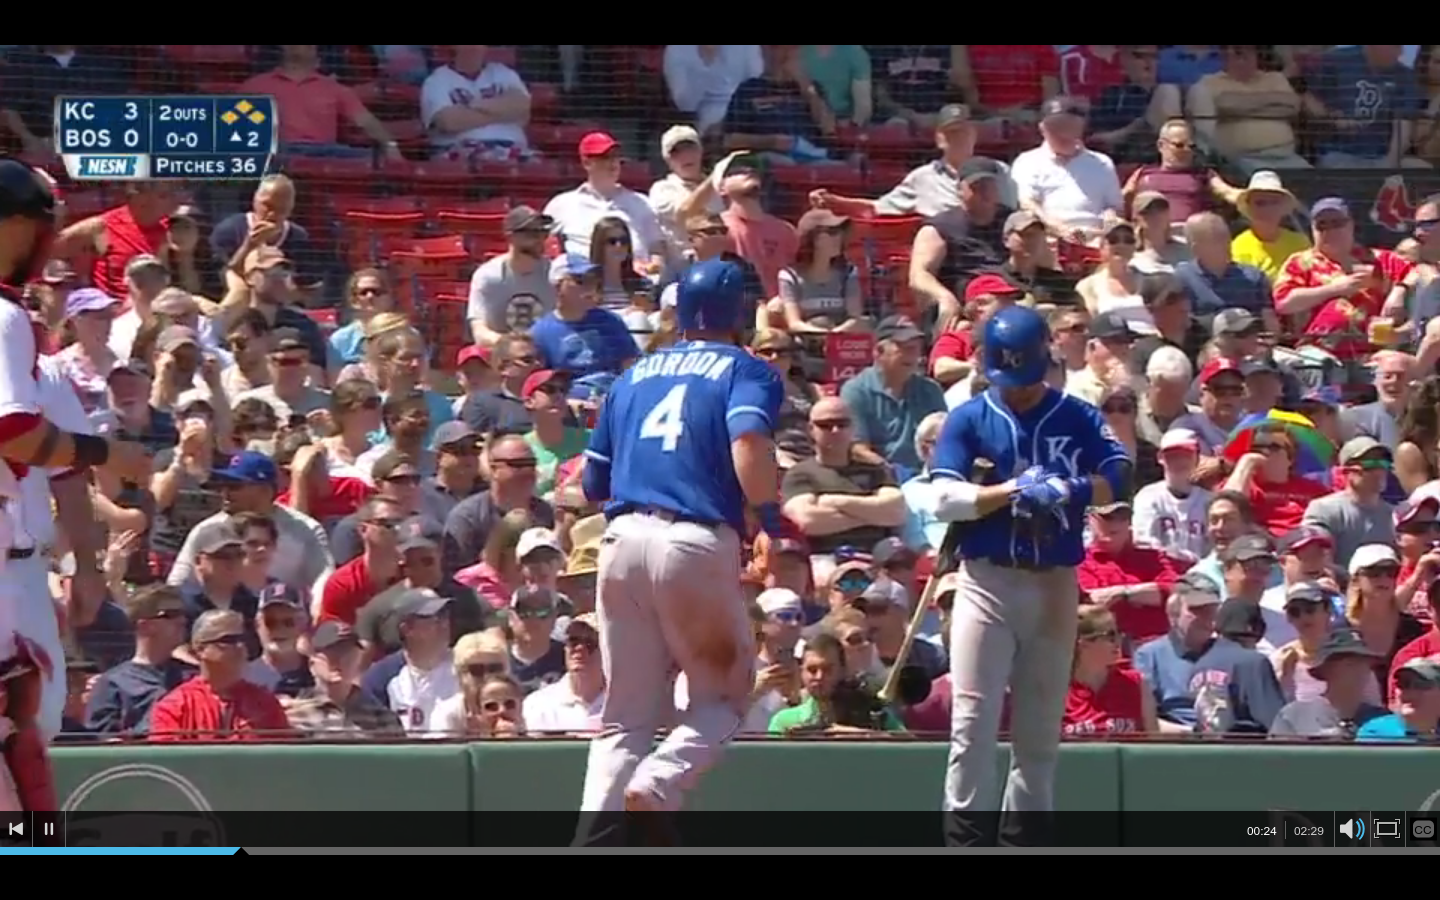baseball player: (544, 246, 793, 811), (930, 302, 1138, 805)
